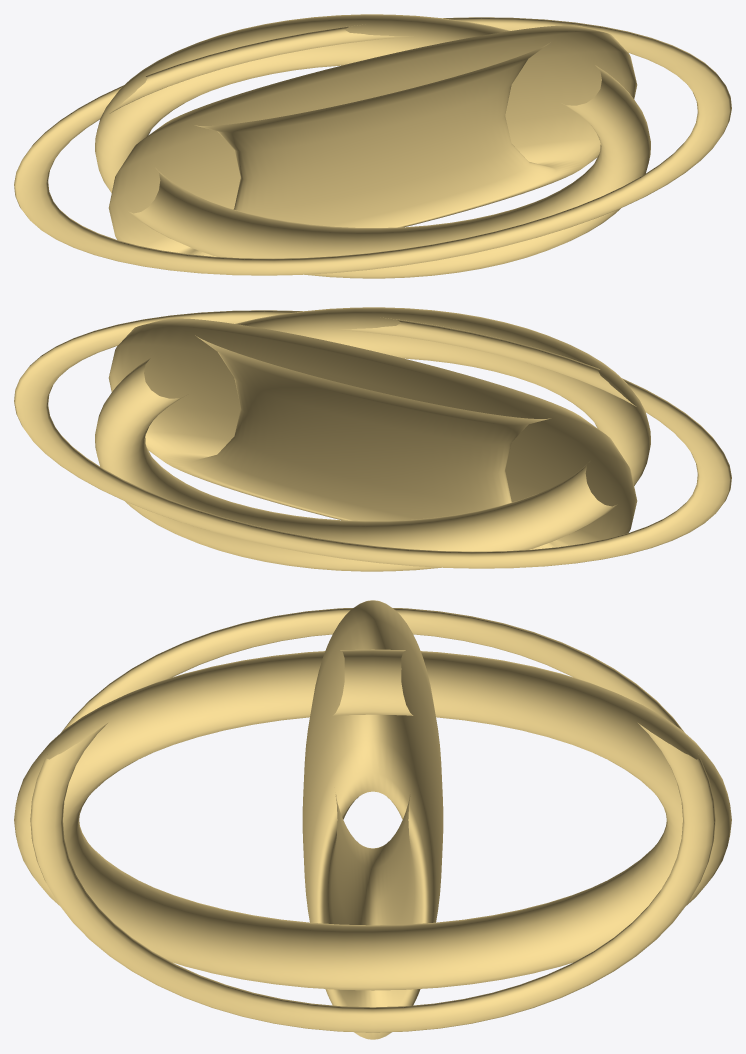
Rendered from posterward_ornaments.glb.
3 renders of one model, top to bottom at view 1: azimuth 30°, elevation 25°; view 2: azimuth 150°, elevation 25°; view 3: azimuth 270°, elevation 25°, orthographic. The views are drawn at different scales.
Visible parts, largest first — view 1: bisk, ring, ribbon; view 2: bisk, ring, ribbon; view 3: ring, ribbon, bisk.
Boxes of the visible parts, x1,y1,x2,y2 form: bisk: (108, 25, 637, 256); ring: (95, 14, 650, 278); ribbon: (14, 17, 731, 275); bisk: (108, 318, 637, 549); ring: (95, 307, 650, 571); ribbon: (14, 310, 731, 568); ring: (14, 649, 731, 990); ribbon: (30, 608, 715, 1032); bisk: (302, 600, 443, 1039).
Size of the model in its own units: 3.05 by 0.585 by 2.2.
